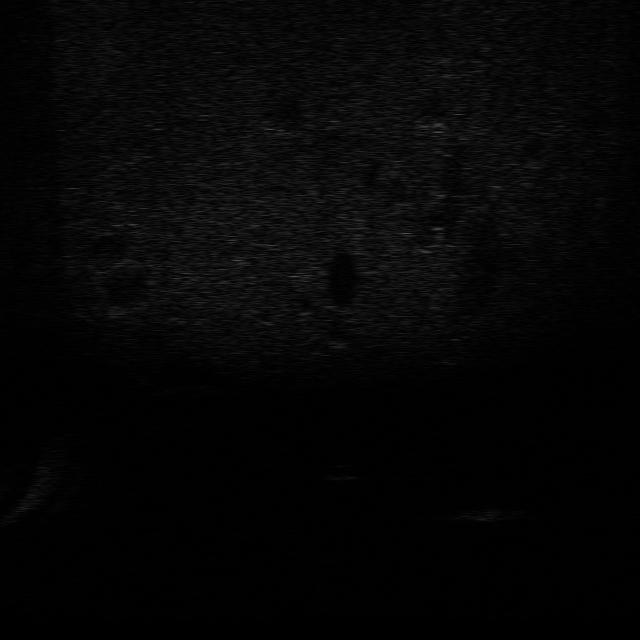ball: (315, 461, 363, 487)
square cage: (441, 495, 525, 529)
tyre: (430, 334, 474, 368)
